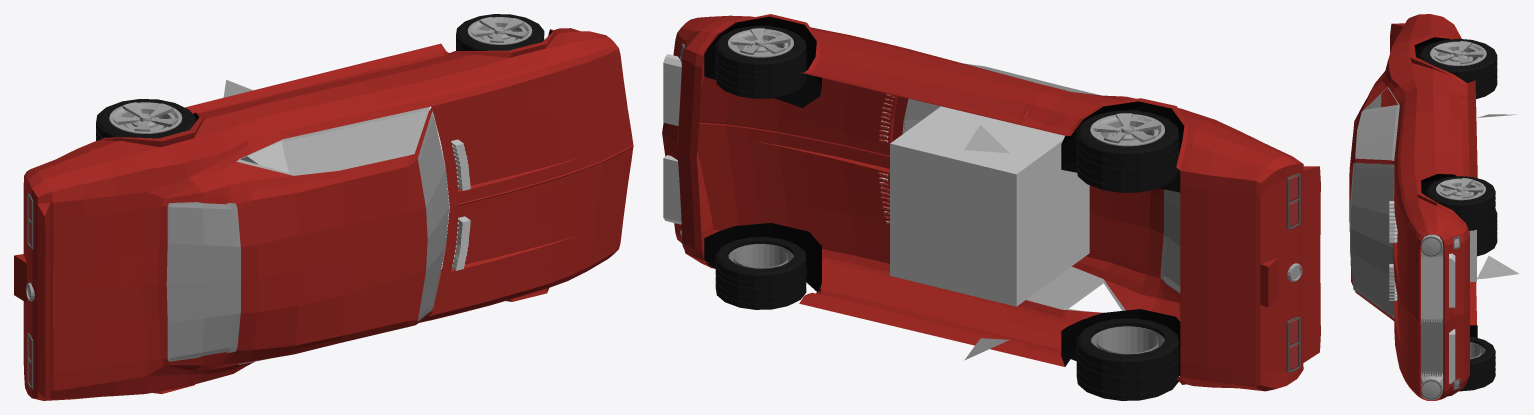
The model's file is carro1.obj.
3 renders of one model, left to right at view 1: azimuth 30°, elevation 25°; view 2: azimuth 150°, elevation 25°; view 3: azimuth 270°, elevation 25°, orthographic. The views are drawn at different scales.
Visible parts, largest first — view 1: Carroceria_Plano, Parabrisas_Tr_Plano.015, Pueratas_Plano.008, Ventana_1_Plano.013, Parabrisas_Ad_Plano.005, Rin_1_Tr_Plano.018, Ruedas_Tr_Círculo.005, Rin_1_Ad_Plano.017, Ruedas_Ad_Círculo.004, Cubo, Marco_Parabrisad_Tr_Plano.016, Cube (+1 smaller); view 2: Carroceria_Plano, Cube, Pueratas_Plano.008, Ruedas_Tr_Círculo.005, Ruedas_Ad_Círculo.004, Rin_1_Tr_Plano.018, Rin_1_Ad_Plano.017, Plano.002_Plano.019, Ventana_1_Plano.013, Parabrisas_Tr_Plano.015, Luz_Tr_Plano.021, Ventana_2_Plano.010 (+2 smaller); view 3: Carroceria_Plano, Parabrisas_Ad_Plano.005, Pueratas_Plano.008, Ruedas_Ad_Círculo.004, Rejilla_Plano.002, Ruedas_Tr_Círculo.005, Ventana_1_Plano.013, Rin_1_Tr_Plano.018, Rin_1_Ad_Plano.017, Plano.002_Plano.019, Ventana_2_Plano.010, Cubo (+5 smaller).
Boxes of the visible parts, x1=… form: Carroceria_Plano: x1=14, y1=28, x2=633, y2=400; Parabrisas_Tr_Plano.015: x1=168, y1=203, x2=238, y2=360; Pueratas_Plano.008: x1=252, y1=65, x2=431, y2=322; Ventana_1_Plano.013: x1=283, y1=107, x2=429, y2=325; Parabrisas_Ad_Plano.005: x1=418, y1=112, x2=449, y2=319; Rin_1_Tr_Plano.018: x1=109, y1=102, x2=182, y2=133; Ruedas_Tr_Círculo.005: x1=96, y1=99, x2=195, y2=140; Rin_1_Ad_Plano.017: x1=467, y1=17, x2=532, y2=44; Ruedas_Ad_Círculo.004: x1=456, y1=14, x2=544, y2=50; Cubo: x1=451, y1=139, x2=470, y2=270; Marco_Parabrisad_Tr_Plano.016: x1=166, y1=202, x2=240, y2=361; Cube: x1=241, y1=141, x2=288, y2=172; Carroceria_Plano: x1=662, y1=14, x2=1320, y2=391; Cube: x1=890, y1=106, x2=1089, y2=306; Pueratas_Plano.008: x1=862, y1=48, x2=1063, y2=346; Ruedas_Tr_Círculo.005: x1=1076, y1=110, x2=1178, y2=400; Ruedas_Ad_Círculo.004: x1=715, y1=25, x2=806, y2=309; Rin_1_Tr_Plano.018: x1=1090, y1=113, x2=1164, y2=354; Rin_1_Ad_Plano.017: x1=728, y1=28, x2=793, y2=268; Plano.002_Plano.019: x1=663, y1=54, x2=681, y2=224; Ventana_1_Plano.013: x1=963, y1=63, x2=1102, y2=309; Parabrisas_Tr_Plano.015: x1=1160, y1=189, x2=1180, y2=291; Luz_Tr_Plano.021: x1=1286, y1=173, x2=1300, y2=372; Ventana_2_Plano.010: x1=964, y1=125, x2=1009, y2=360; Carroceria_Plano: x1=1349, y1=14, x2=1477, y2=400; Parabrisas_Ad_Plano.005: x1=1351, y1=164, x2=1393, y2=317; Pueratas_Plano.008: x1=1394, y1=90, x2=1462, y2=161; Ruedas_Ad_Círculo.004: x1=1426, y1=176, x2=1495, y2=391; Rejilla_Plano.002: x1=1420, y1=256, x2=1443, y2=376; Ruedas_Tr_Círculo.005: x1=1419, y1=38, x2=1497, y2=256; Ventana_1_Plano.013: x1=1355, y1=105, x2=1399, y2=160; Rin_1_Tr_Plano.018: x1=1430, y1=41, x2=1486, y2=66; Rin_1_Ad_Plano.017: x1=1436, y1=178, x2=1485, y2=359; Plano.002_Plano.019: x1=1449, y1=253, x2=1455, y2=383; Ventana_2_Plano.010: x1=1477, y1=114, x2=1519, y2=279; Cubo: x1=1389, y1=201, x2=1397, y2=300.
Size of the model in its own units: 9.85 by 3.92 by 3.09.
